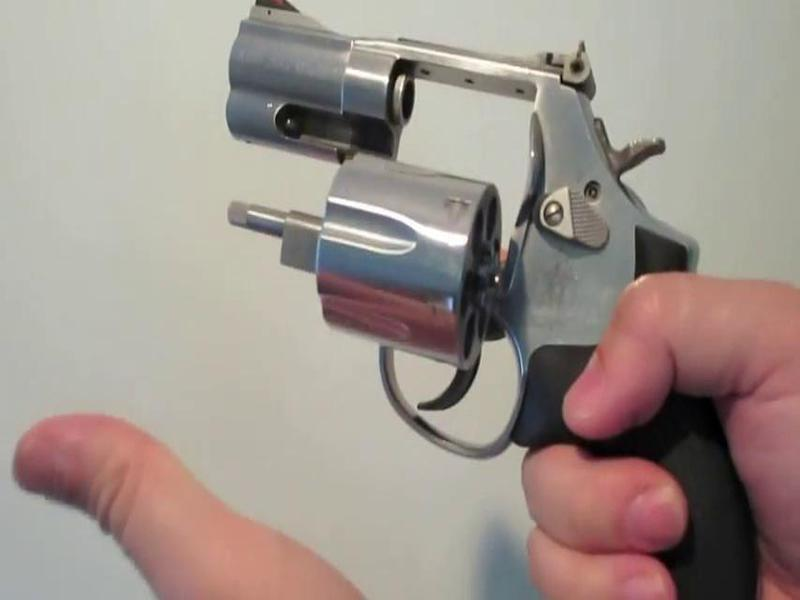Revolver: (200, 7, 744, 600)
